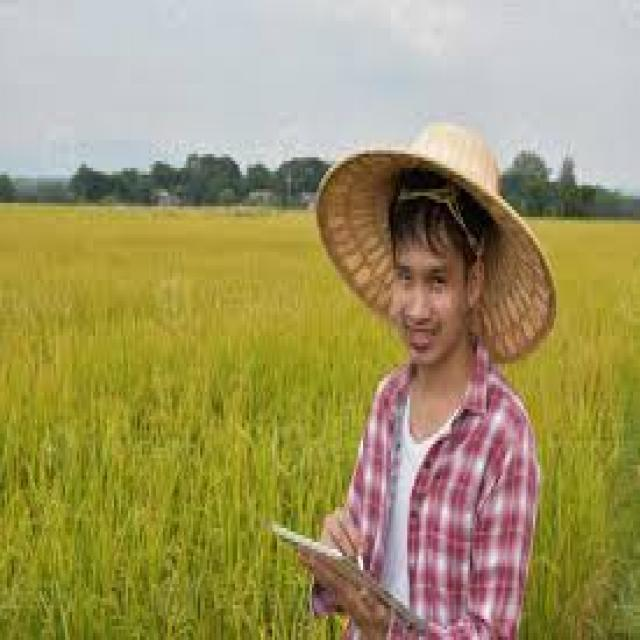hat: (301, 98, 572, 355)
